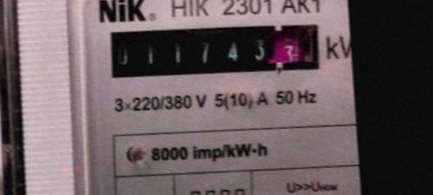0: (112, 38, 128, 66)
1: (139, 36, 155, 65), (167, 36, 182, 64)
3: (248, 34, 264, 62), (278, 42, 294, 64)
4: (222, 37, 238, 63)
7: (194, 37, 210, 63)
screen: (98, 11, 328, 90)
